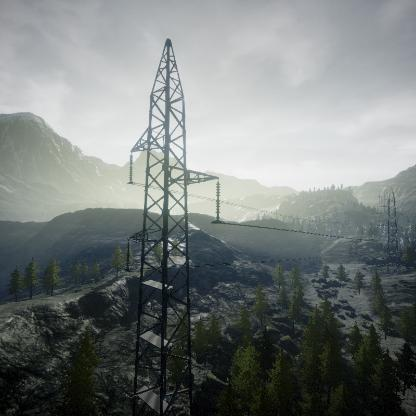tower: (122, 39, 217, 410), (379, 187, 405, 271)
